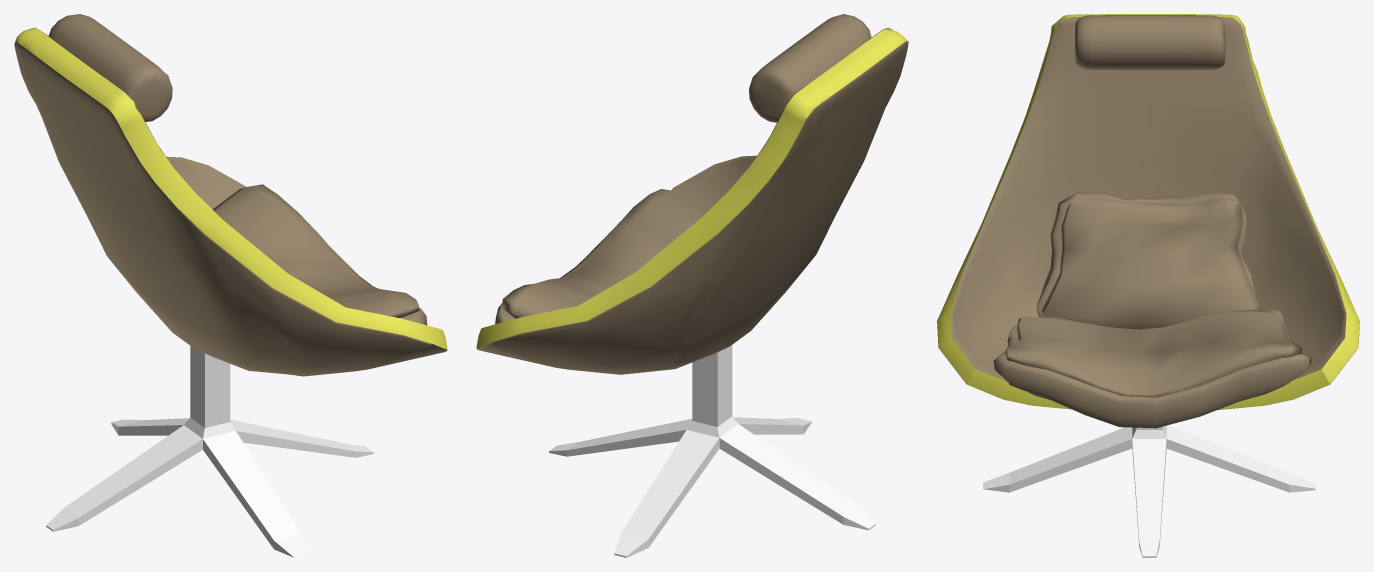
File: SILLA RECEPCION.fbx
3 renders of one model, left to right at view 1: azimuth 30°, elevation 25°; view 2: azimuth 150°, elevation 25°; view 3: azimuth 270°, elevation 25°, orthographic. The views are drawn at different scales.
Parts seen in each view (by area): view 1: Silla, Cojin 2, Silla.001; view 2: Silla, Cojin 2, Silla.001; view 3: Silla, Cojin 2, Cojin 1, Silla.001.
Boxes of the visible parts, left/top/right/bottom form: Silla: left=14, top=27, right=447, bottom=557; Cojin 2: left=212, top=184, right=427, bottom=325; Silla.001: left=48, top=14, right=172, bottom=121; Silla: left=476, top=27, right=908, bottom=557; Cojin 2: left=495, top=189, right=703, bottom=324; Silla.001: left=749, top=14, right=871, bottom=122; Silla: left=937, top=14, right=1359, bottom=557; Cojin 2: left=993, top=309, right=1311, bottom=428; Cojin 1: left=1036, top=191, right=1260, bottom=329; Silla.001: left=1075, top=15, right=1225, bottom=70.
Bounding box in the file's own units: 347 × 491 × 441.
